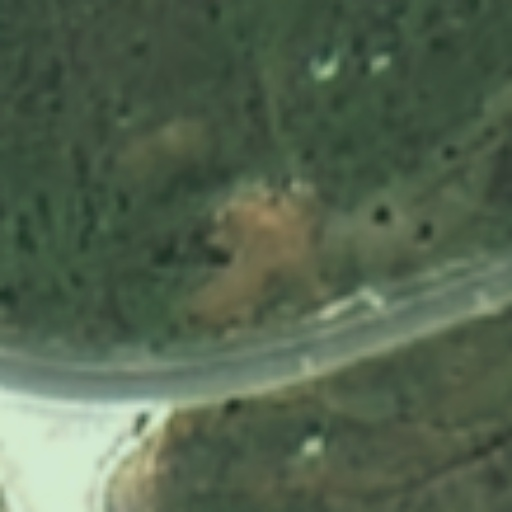landslide: (193, 188, 317, 327)
